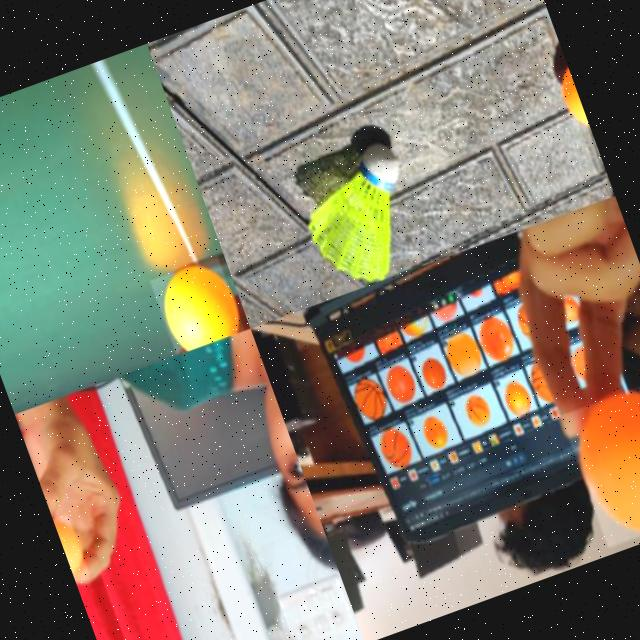ping-pong-ball: (558, 375, 640, 548), (147, 253, 245, 355), (552, 64, 591, 136), (51, 510, 90, 578)
